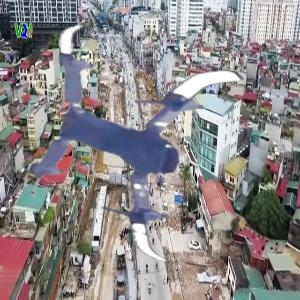drone: (25, 31, 259, 265)
